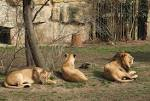lion: (3, 62, 56, 95), (98, 50, 143, 85), (57, 48, 89, 91)
